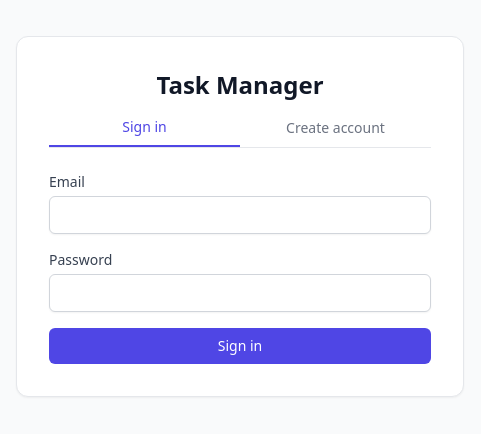
it: LoginPage › shows Zod field errors on empty login submit
Click the button "Sign in" at (240, 346), box [49, 328, 431, 364]
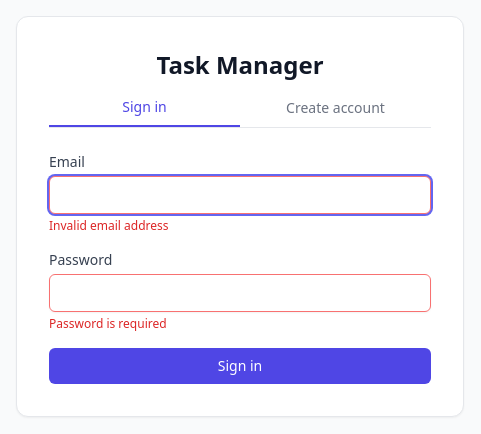
Expected: the text "Invalid email address" is shown, [49, 216, 168, 234]
